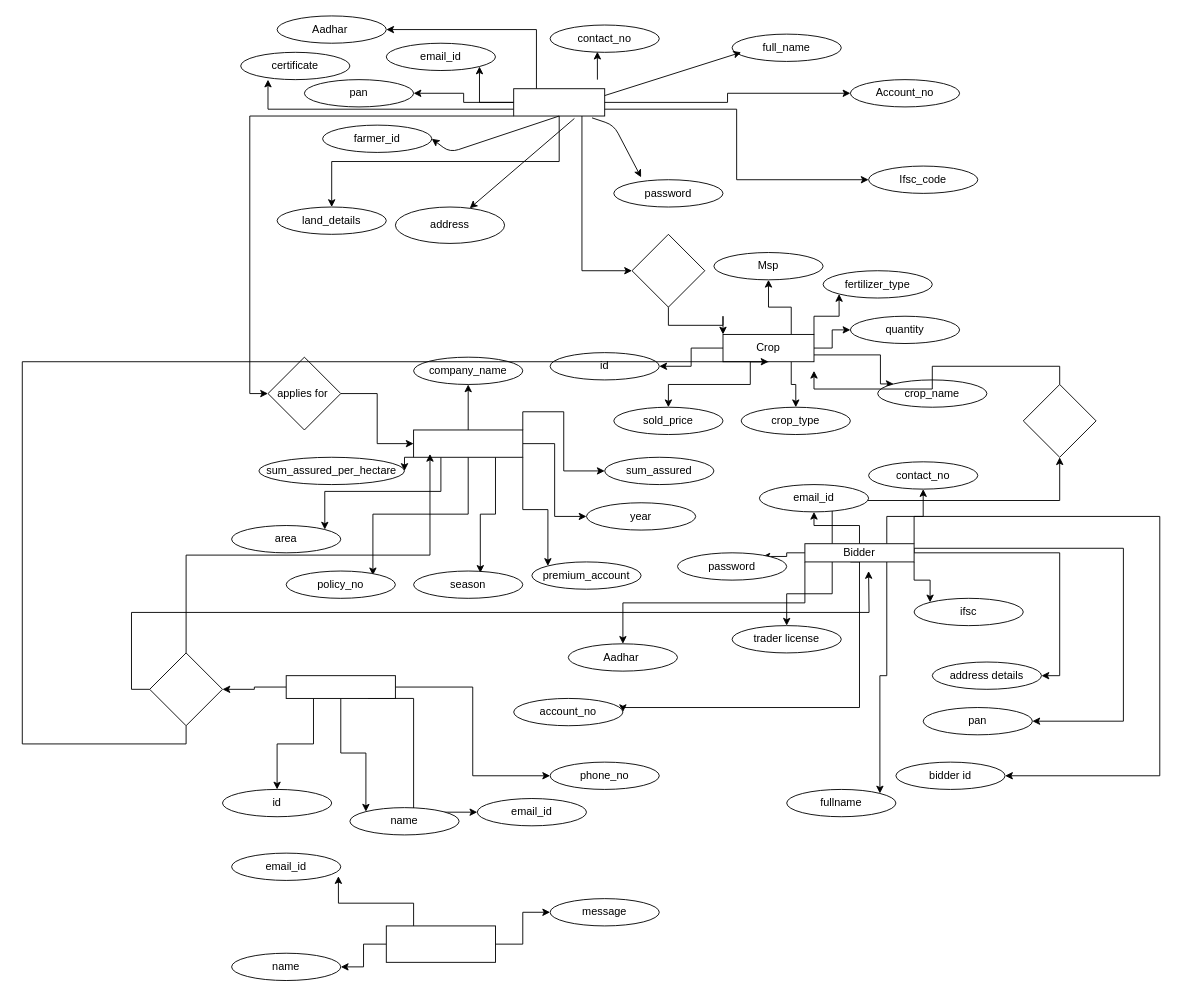
The diagram is 1183 pixels wide and 996 high, and some of its shapes have lost their labels. Here are the shapes that lost their labels. From the top down, the centre of each, then its label:
At [559,102]: "Farmer".
At [668,270]: "sells".
At [1059,420]: "bids for".
At [468,443]: "Insurance".
At [185,689]: "approves".
At [340,686]: "admin".
At [440,943]: "contact_us".
